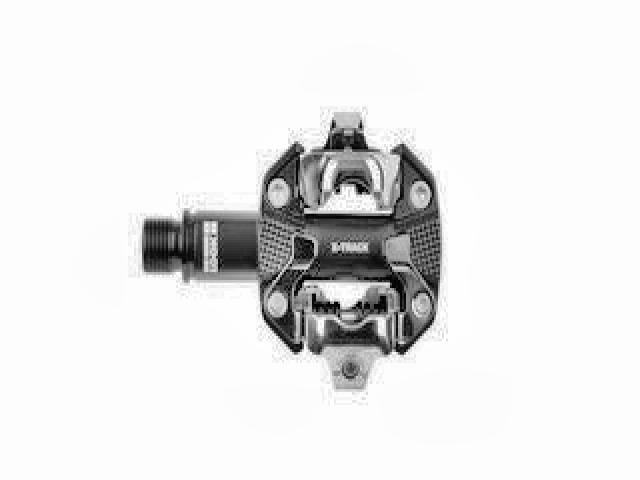pedal: (142, 108, 445, 396)
